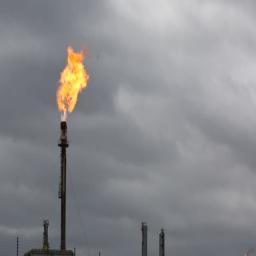fire: (55, 46, 89, 124)
